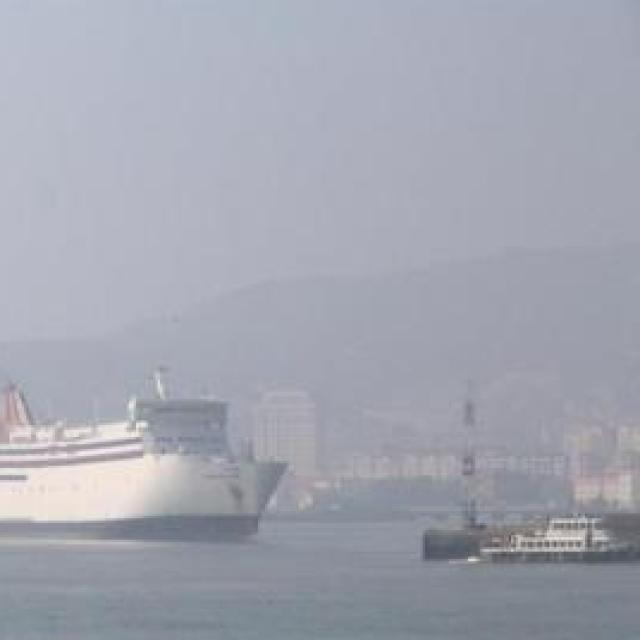passenger ship: (0, 392, 287, 544), (480, 517, 636, 564)
